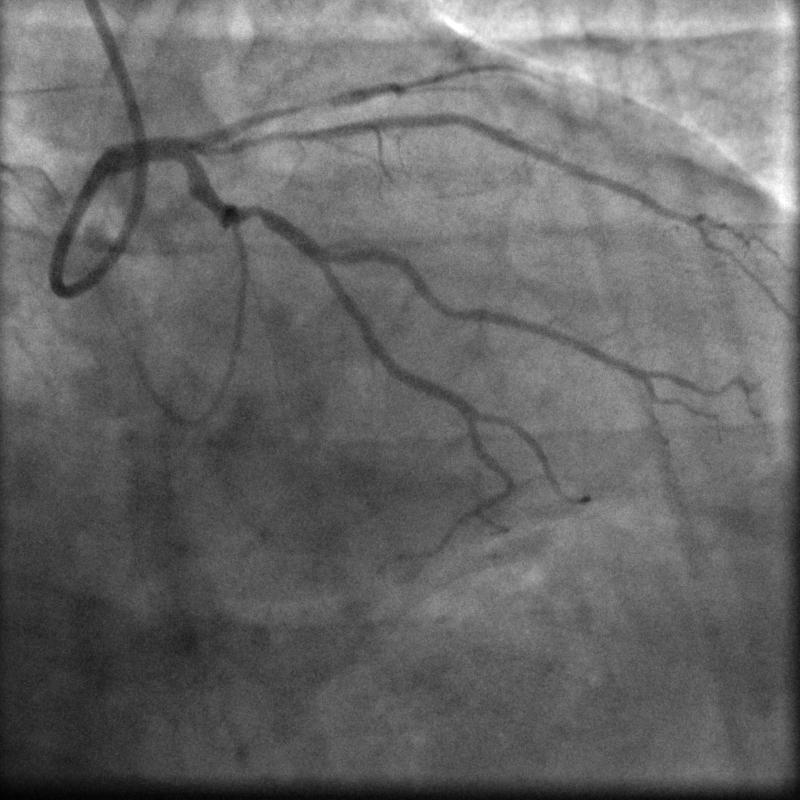Stenosis: (239, 201, 266, 225)
